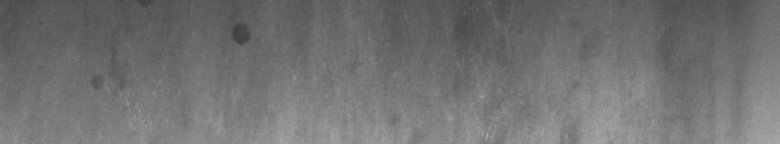fi: (228, 19, 250, 52)
